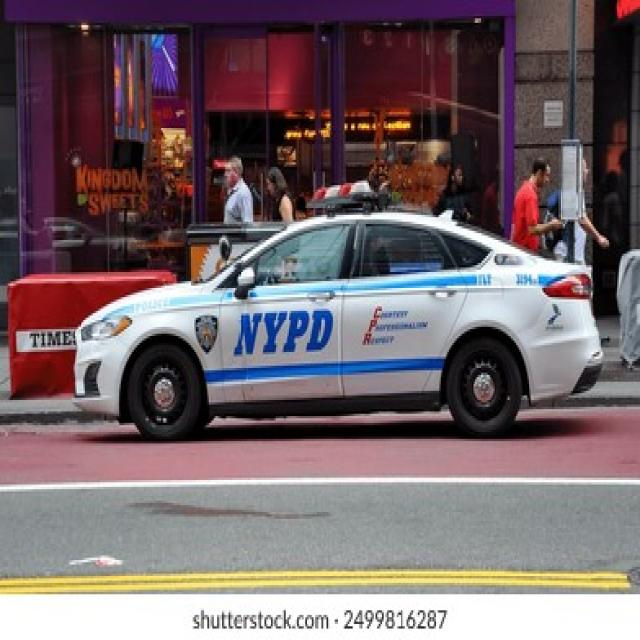cop: (69, 177, 609, 442)
